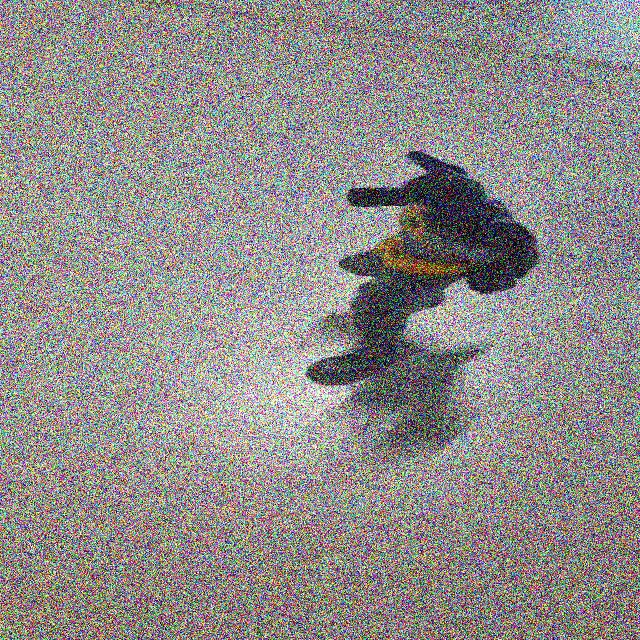Batman: (290, 148, 535, 390)
